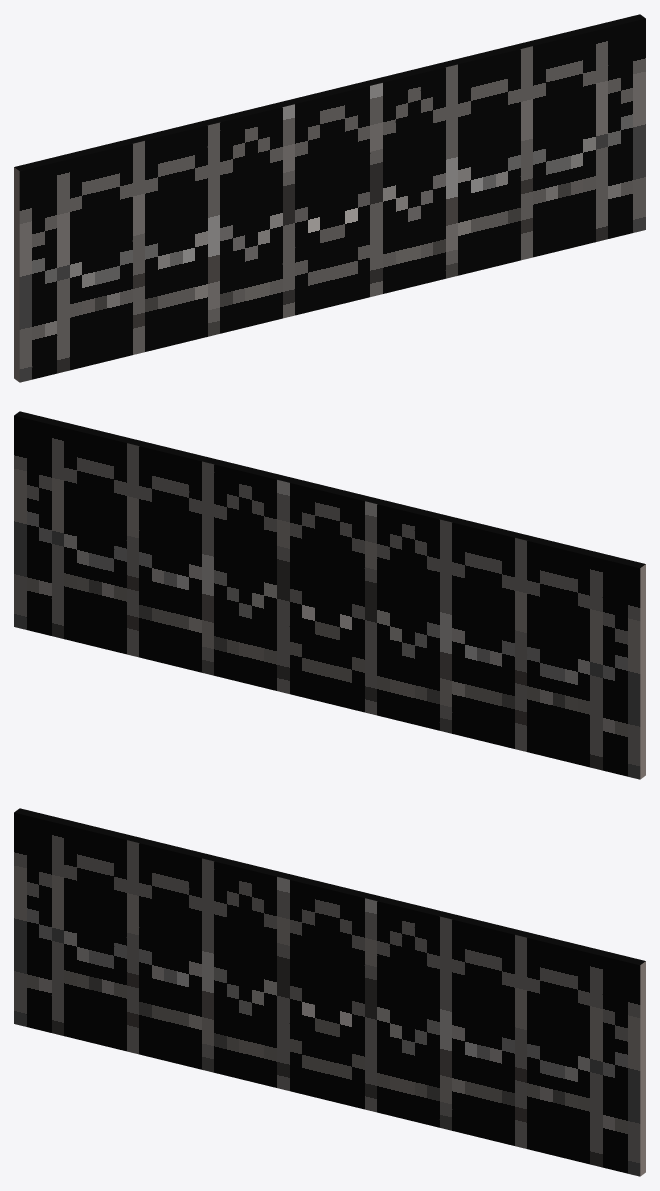
File: IRON_BARS.obj
3 renders of one model, top to bottom at view 1: azimuth 30°, elevation 25°; view 2: azimuth 150°, elevation 25°; view 3: azimuth 330°, elevation 25°, orthographic.
Parts seen in each view (by area): view 1: cuboid; view 2: cuboid; view 3: cuboid.
Part boxes in pixels (x1,y1,x2,y2): cuboid: (14,14,645,382); cuboid: (14,411,645,779); cuboid: (14,808,645,1176).
Size of the model in its own units: 1.94 by 0.625 by 0.0312.
Materials: 1 (1 with a texture image).
